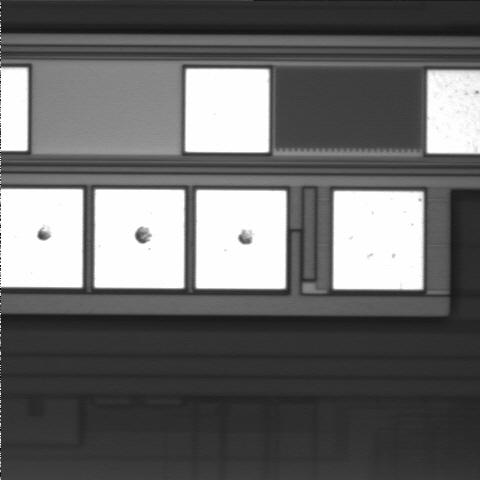pad: (196, 190, 286, 289), (333, 191, 423, 289), (95, 189, 184, 288), (185, 69, 269, 152)
